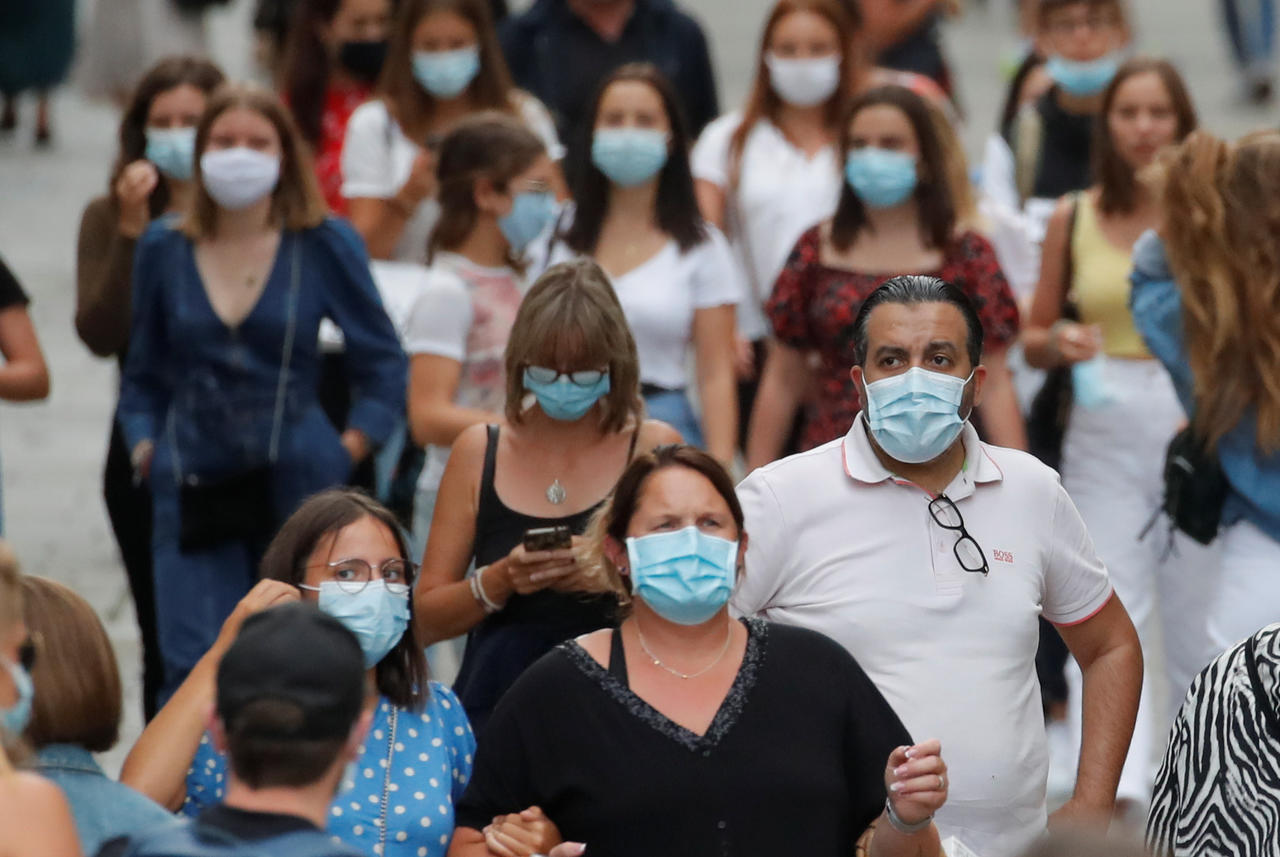with_incorrect_mask: (1049, 9, 1112, 89)
with_mask: (866, 332, 974, 458), (631, 494, 733, 611), (313, 543, 403, 652), (521, 348, 619, 424), (490, 151, 554, 244), (207, 127, 278, 201), (767, 31, 839, 102), (846, 128, 914, 200), (601, 102, 664, 177), (413, 31, 477, 92)
without_mask: (1114, 93, 1183, 180)
